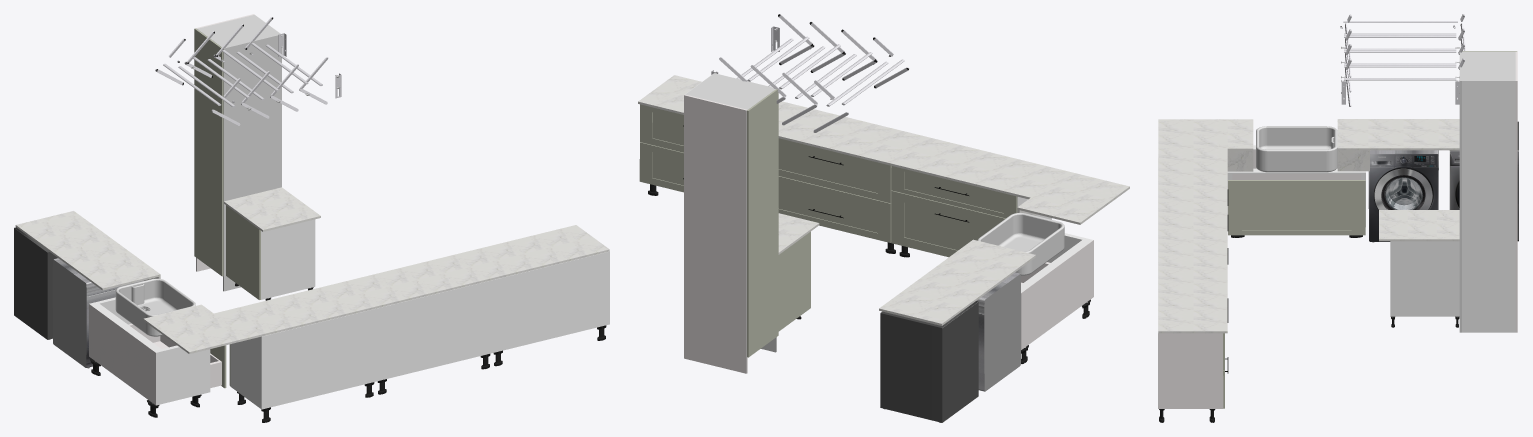
File: Gabriel_Scullery.glb
3 views of the same model, side by side, from view 1: azimuth 30°, elevation 25°; view 2: azimuth 150°, elevation 25°; view 3: azimuth 270°, elevation 25° (orthographic). The views are drawn at different scales.
Visible parts, largest first — view 1: G-Object.001, C-FloorBack720.002, C-FloorBack720, C-FloorBack720.001, G-Object.017, G-Object.015, G-Object.003, C-çamaşır+makinesi2, C-FloorSide720#1, C-FloorBack, C-lave linge hisense, C-FloorSide720 (+7 smaller); view 2: G-Object.014, G-Object.001, C-lave linge hisense, G-Object.015, G-Object.003, C-Drawer600.004, C-Drawer600, C-Drawer600.001, C-FloorBack, C-çamaşır+makinesi2, C-Drawer600.005, G-Object.007 (+8 smaller); view 3: G-Object.001, G-Object.016, C-Door450x720#2, C-FloorBack720#4, C-FloorSide720#4.001, C-çamaşır+makinesi2, G-Object.003, G-Object.007, G-Object.009, G-Object.011, C-lave linge hisense, G-Object.002 (+6 smaller).
Part boxes in pixels (bbox=[...]): G-Object.001: bbox=[155, 225, 609, 353]; C-FloorBack720.002: bbox=[261, 308, 377, 409]; C-FloorBack720: bbox=[377, 280, 493, 380]; C-FloorBack720.001: bbox=[494, 251, 609, 352]; G-Object.017: bbox=[223, 33, 281, 291]; G-Object.015: bbox=[194, 28, 223, 276]; G-Object.003: bbox=[15, 211, 160, 290]; C-çamaşır+makinesi2: bbox=[52, 258, 143, 368]; C-FloorSide720#1: bbox=[261, 219, 314, 299]; C-FloorBack: bbox=[89, 304, 156, 405]; C-lave linge hisense: bbox=[14, 227, 57, 339]; C-FloorSide720: bbox=[154, 345, 210, 405]; G-Object.014: bbox=[684, 94, 747, 373]; G-Object.001: bbox=[638, 75, 1129, 214]; C-lave linge hisense: bbox=[880, 301, 978, 422]; G-Object.015: bbox=[747, 89, 778, 357]; G-Object.003: bbox=[879, 239, 1035, 325]; C-Drawer600.004: bbox=[891, 190, 1005, 257]; C-Drawer600: bbox=[778, 176, 891, 242]; C-Drawer600.001: bbox=[778, 138, 891, 203]; C-FloorBack: bbox=[1021, 240, 1093, 349]; C-çamaşır+makinesi2: bbox=[976, 272, 1020, 391]; C-Drawer600.005: bbox=[891, 166, 1017, 218]; G-Object.007: bbox=[977, 212, 1064, 275]; G-Object.001: bbox=[1158, 119, 1227, 333]; G-Object.016: bbox=[1462, 81, 1515, 332]; C-Door450x720#2: bbox=[1228, 180, 1365, 235]; C-FloorBack720#4: bbox=[1390, 241, 1459, 316]; C-FloorSide720#4.001: bbox=[1158, 333, 1223, 408]; C-çamaşır+makinesi2: bbox=[1368, 150, 1438, 242]; G-Object.003: bbox=[1337, 119, 1459, 150]; G-Object.007: bbox=[1256, 126, 1337, 172]; G-Object.009: bbox=[1379, 210, 1459, 241]; G-Object.011: bbox=[1462, 51, 1515, 80]; C-lave linge hisense: bbox=[1449, 121, 1518, 241]; G-Object.002: bbox=[1227, 119, 1253, 150].
Bounding box in the file's own units: 4.36 × 2.6 × 3.12.
22 materials, 8 textured.
